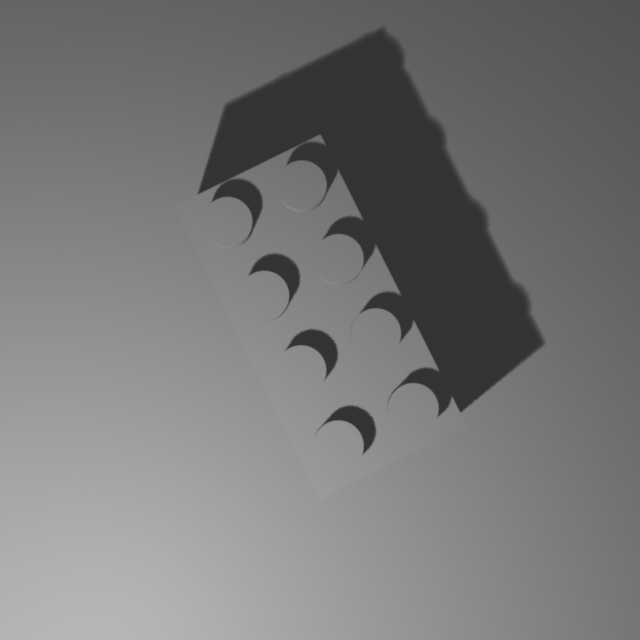lego_2x4: (172, 130, 470, 503)
